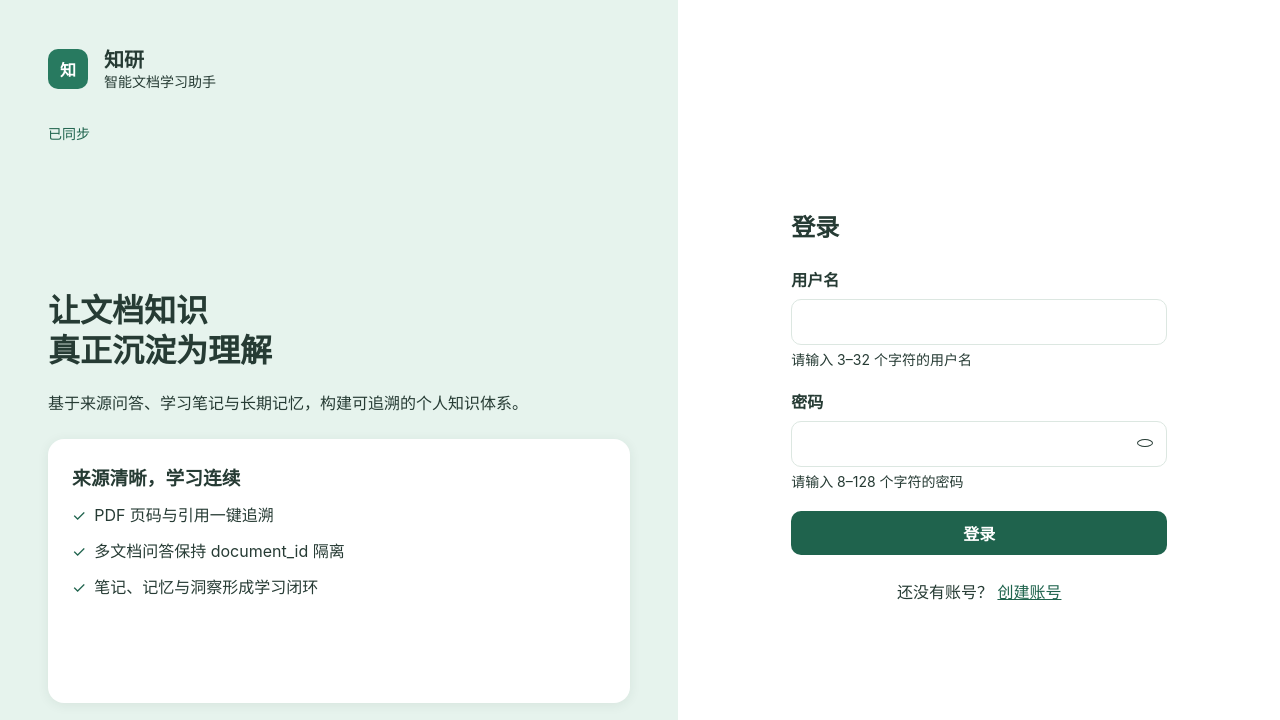
Scenario: AuthProvider › connects API field errors to the invalid form control
Type "reader" into the field labelled "用户名".
click(979, 322); type("reader")  # box left=791, top=299, right=1167, bottom=345
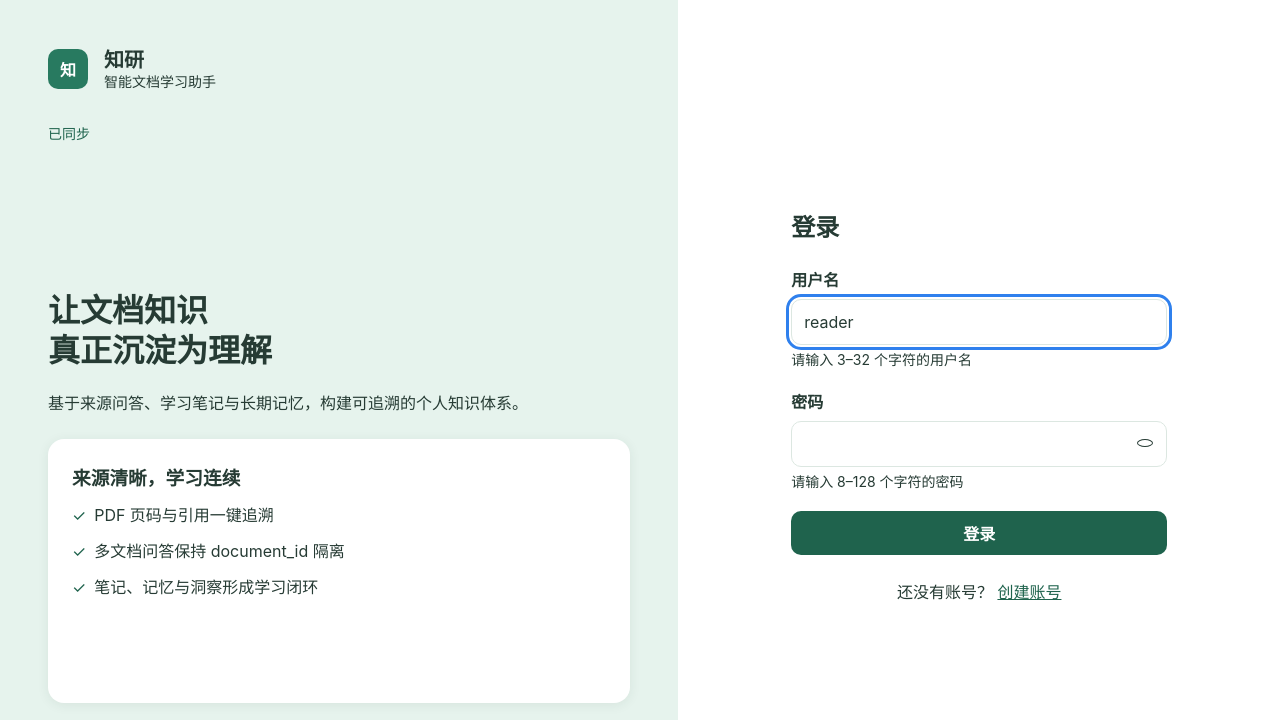
Type "correct horse battery" into the password field labelled "密码".
click(979, 444); type("correct horse battery")  # box left=791, top=421, right=1167, bottom=467
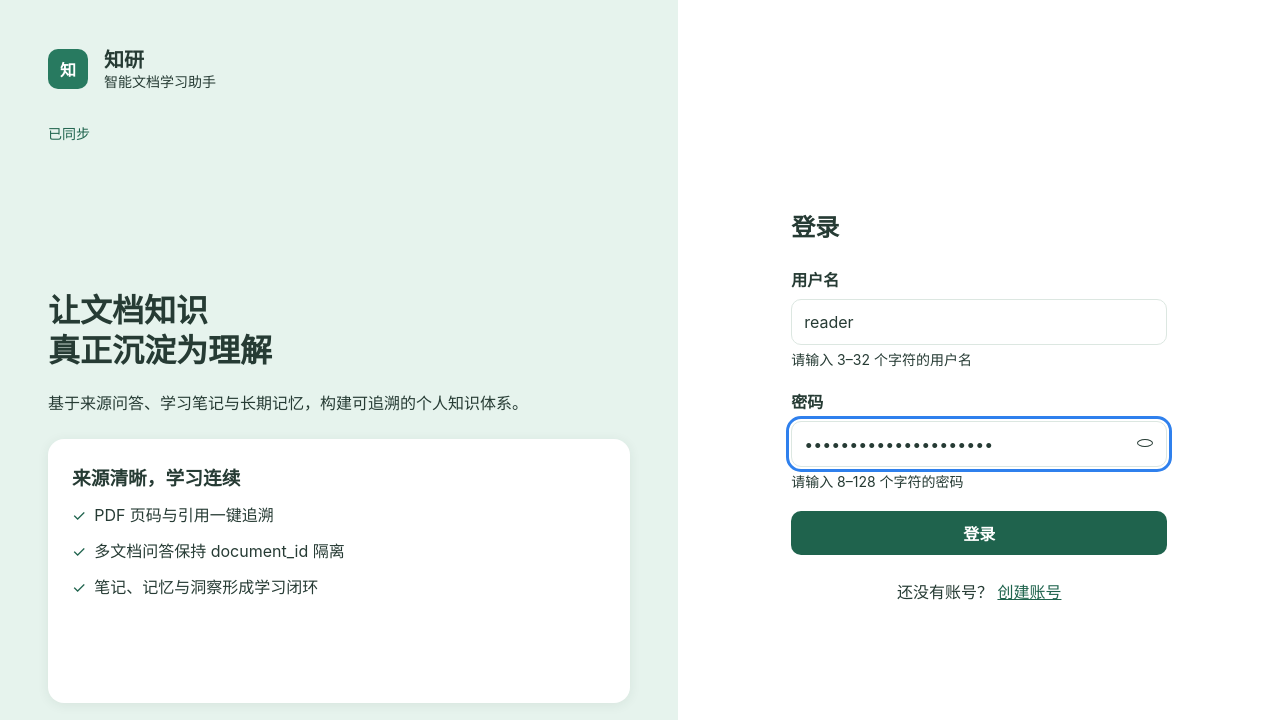
Click the button "登录".
click(979, 533)  # box left=791, top=511, right=1167, bottom=555
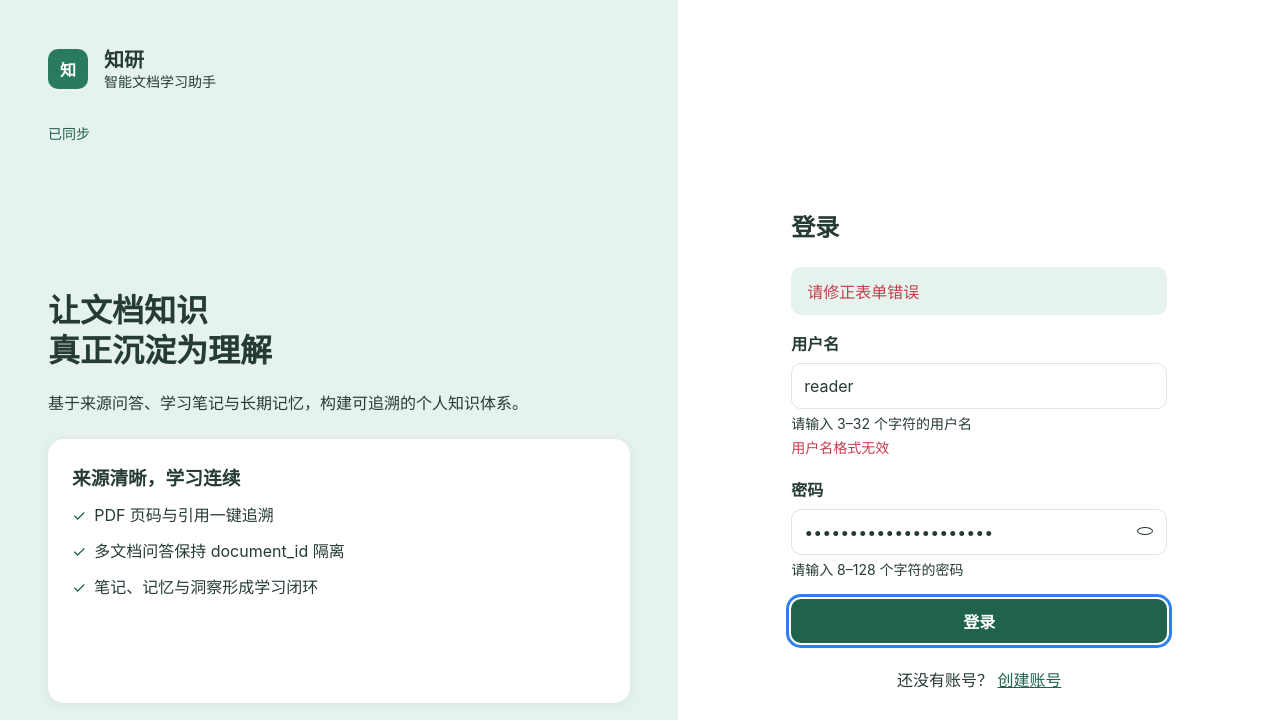
expect the text "用户名格式无效" is shown: met, box left=791, top=439, right=889, bottom=456
